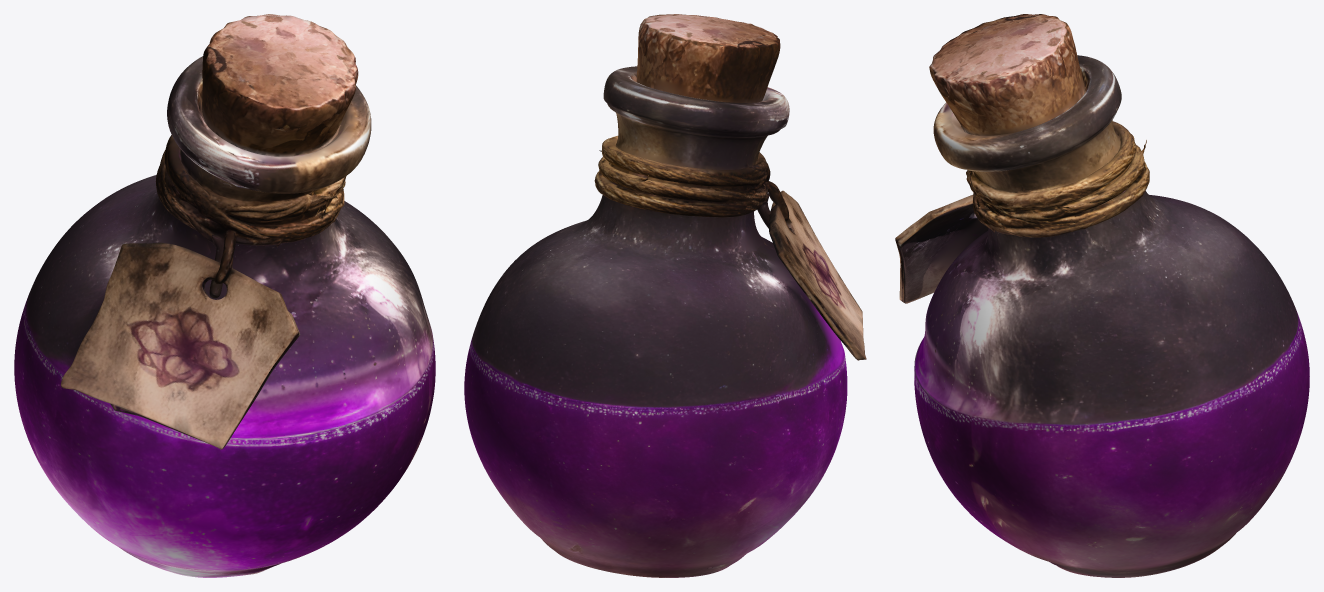
The model's file is pixellabs-potion-3883.high.glb.
3 renders of one model, left to right at view 1: azimuth 30°, elevation 25°; view 2: azimuth 150°, elevation 25°; view 3: azimuth 270°, elevation 25°, orthographic. The views are drawn at different scales.
Visible parts, largest first — view 1: node_0; view 2: node_0; view 3: node_0.
Part boxes in pixels (x1,y1,x2,y2): node_0: (14, 14, 435, 577); node_0: (464, 14, 866, 577); node_0: (895, 14, 1309, 577).
Size of the model in its own units: 0.8204 by 1.13 by 0.8223.
Materials: 1 (1 with a texture image).
